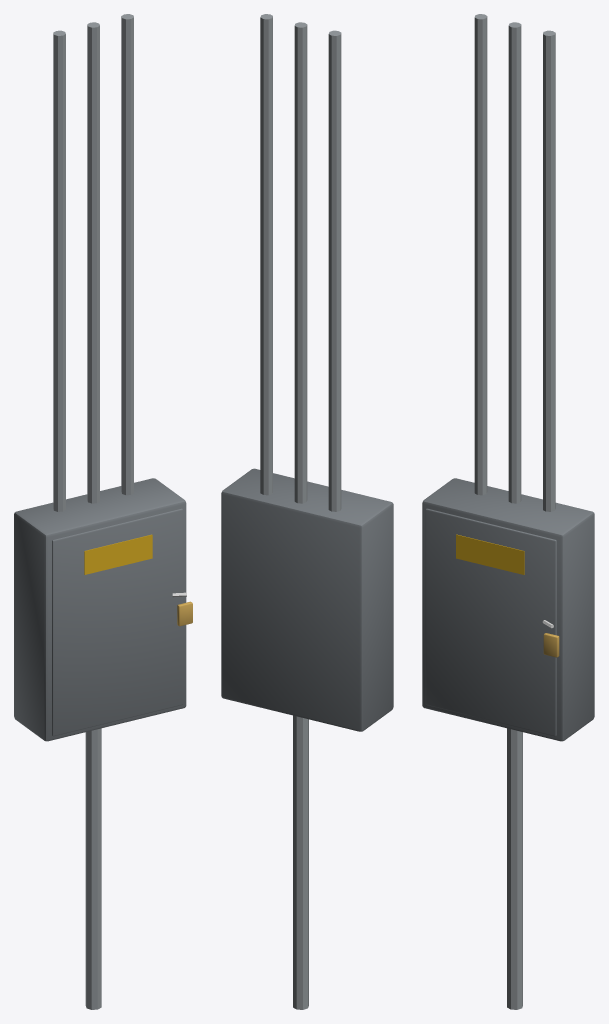
File: tideline_cam_panel.glb
3 renders of one model, left to right at view 1: azimuth 30°, elevation 25°; view 2: azimuth 150°, elevation 25°; view 3: azimuth 330°, elevation 25°, orthographic.
Visible parts, largest first — view 1: tideline_cam_panel; view 2: tideline_cam_panel; view 3: tideline_cam_panel.
Boxes of the visible parts, x1,y1,x2,y2 form: tideline_cam_panel: (14, 14, 192, 1009); tideline_cam_panel: (221, 14, 393, 1009); tideline_cam_panel: (422, 14, 594, 1009).
Size of the model in its own units: 0.5 by 3.3 by 0.2355.
